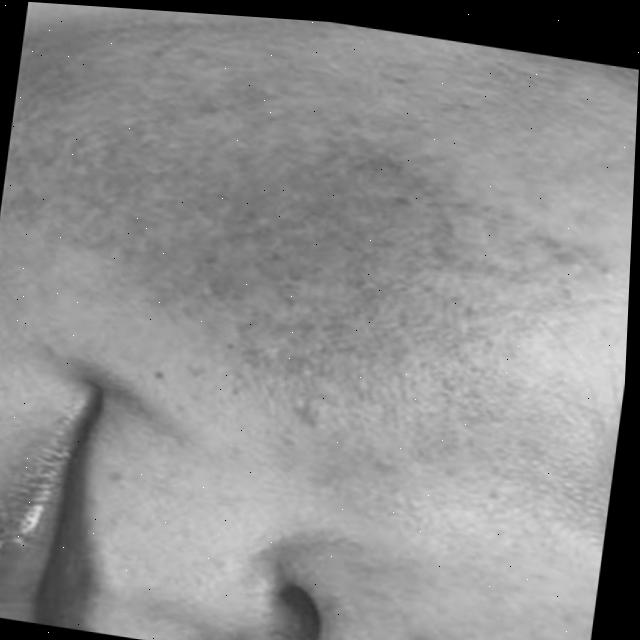Rosacea: (71, 77, 508, 409)
